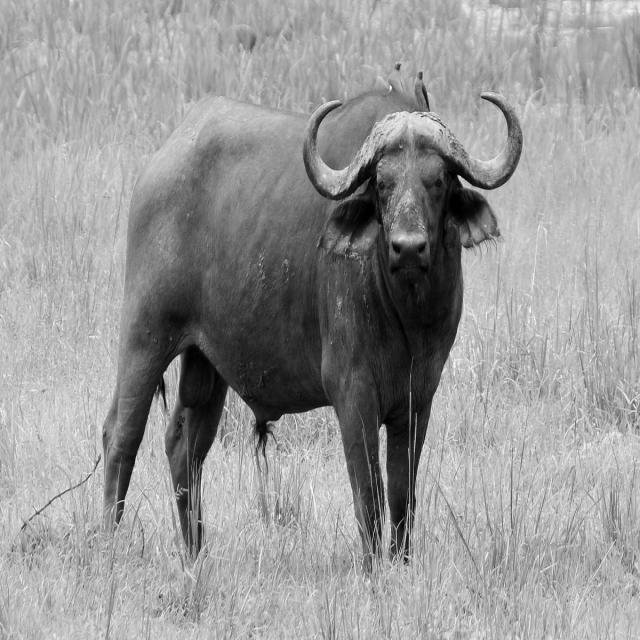Buffalo: (102, 88, 520, 574)
